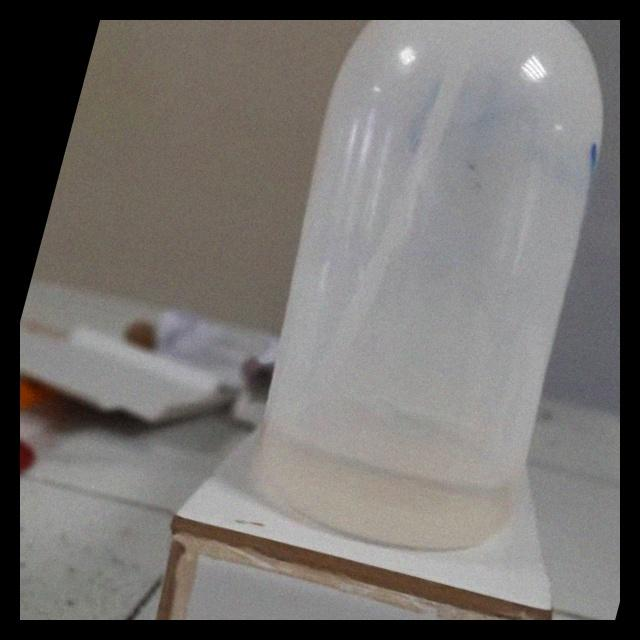Washing Bottle: (24, 20, 620, 574)
